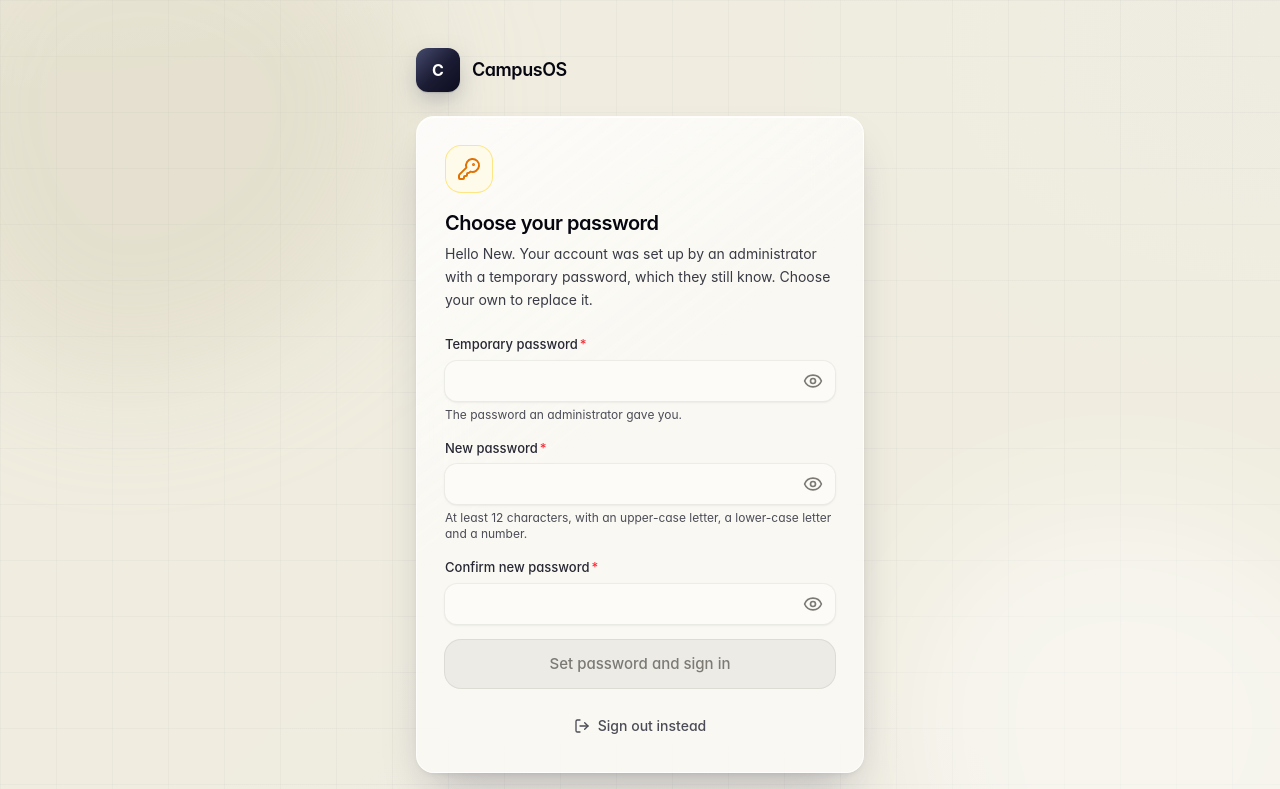
Test: an account that owes a password change › refuses a mismatched confirmation before sending anything
Type "Temp-9x2Kq" into the password field labelled "Temporary password*" at [640, 381], box x1=445 y1=361 x2=835 y2=401
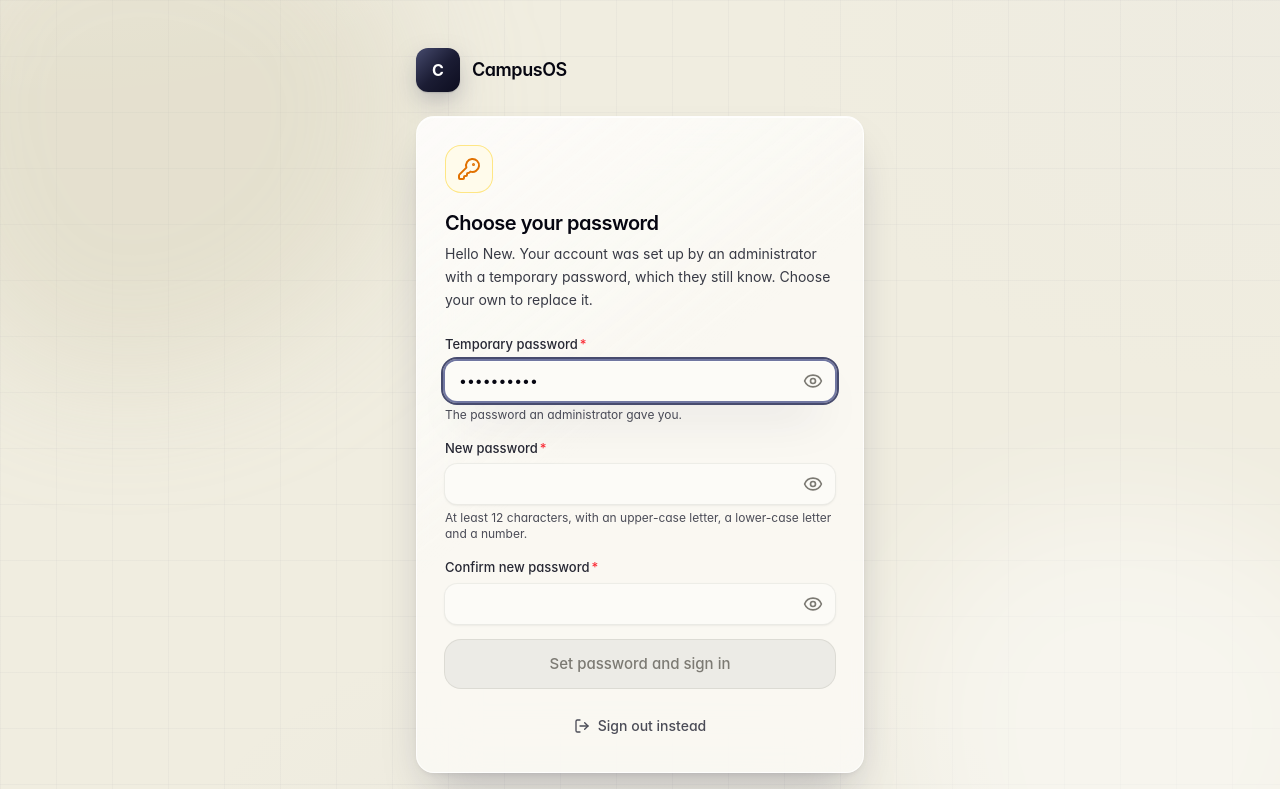
Type "SomethingStrong2026" into the password field labelled "New password*" at [640, 484], box x1=445 y1=464 x2=835 y2=504
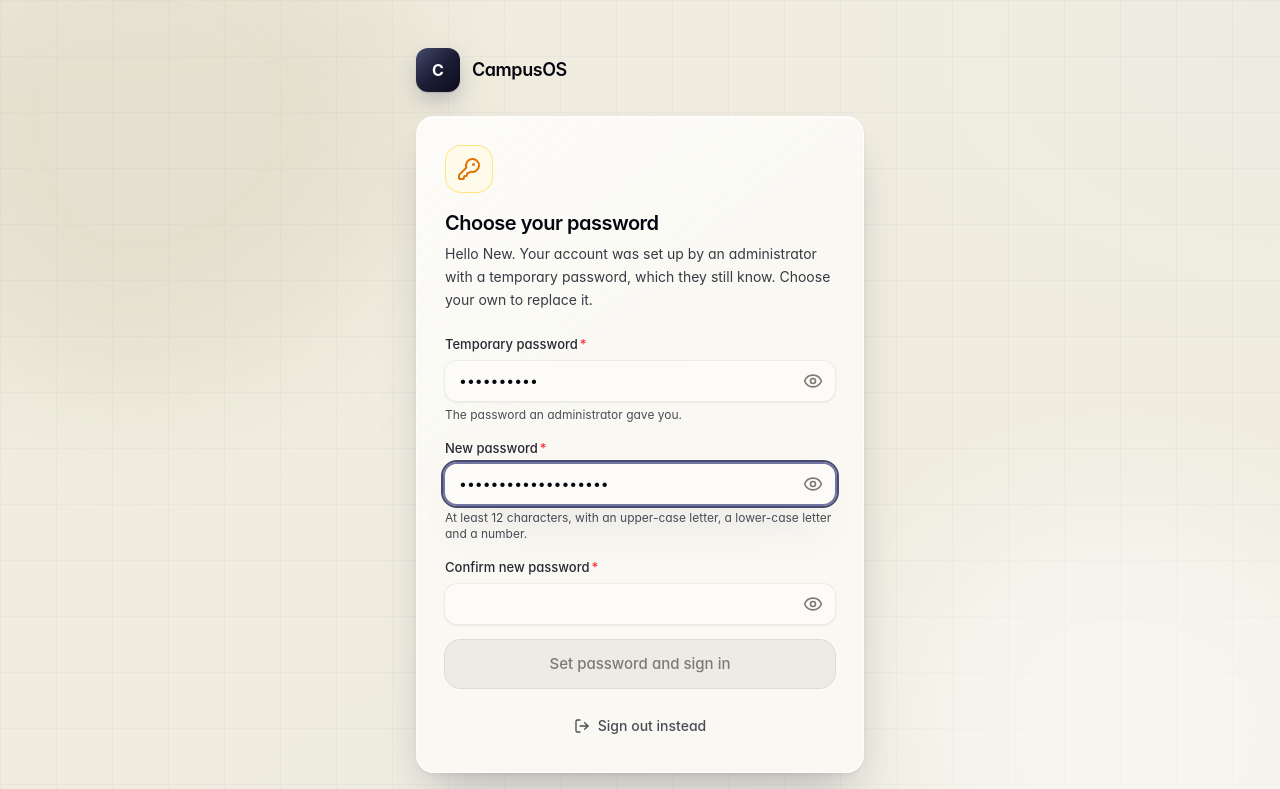
Type "SomethingDifferent2026" into the password field labelled "Confirm new password*" at [640, 604], box x1=445 y1=584 x2=835 y2=624
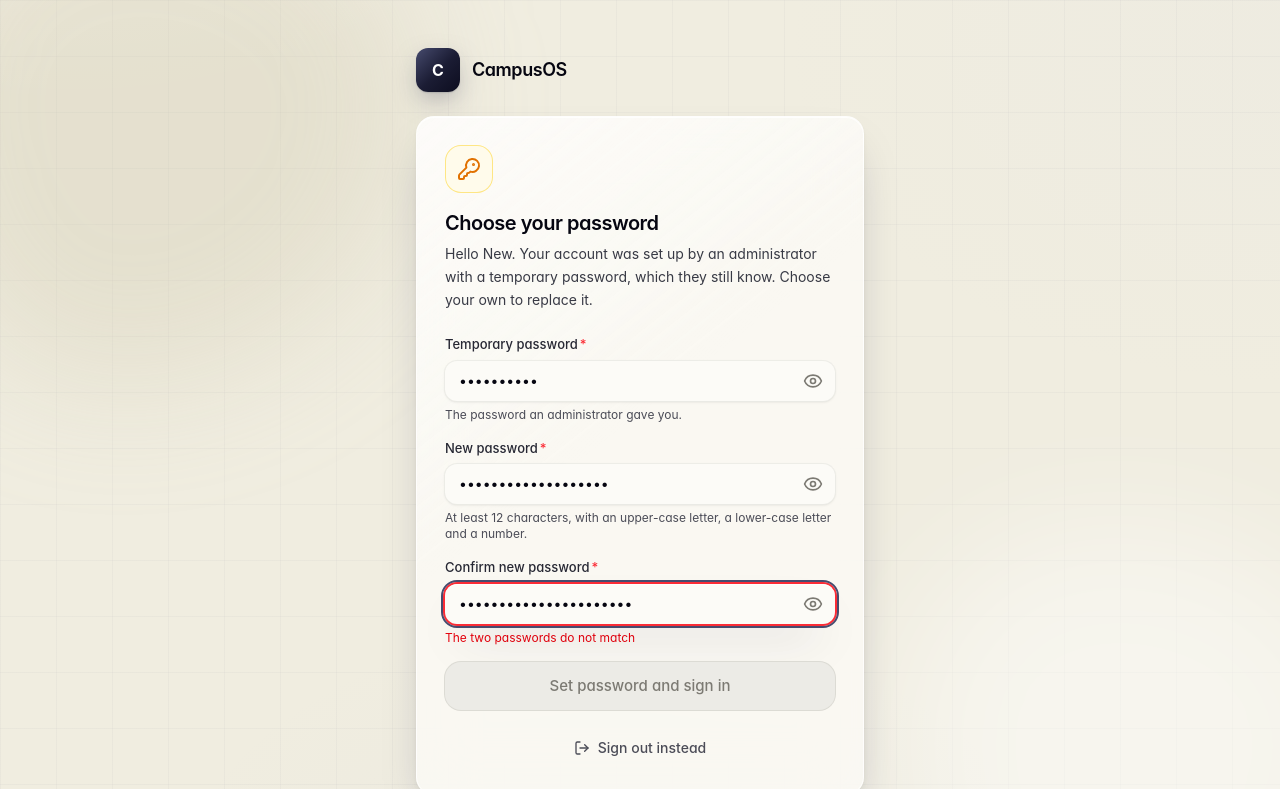
Expected: the button "Set password and sign in" is disabled, x1=445 y1=662 x2=835 y2=710
Expected: the text "The two passwords do not match" is shown, x1=445 y1=630 x2=635 y2=645
